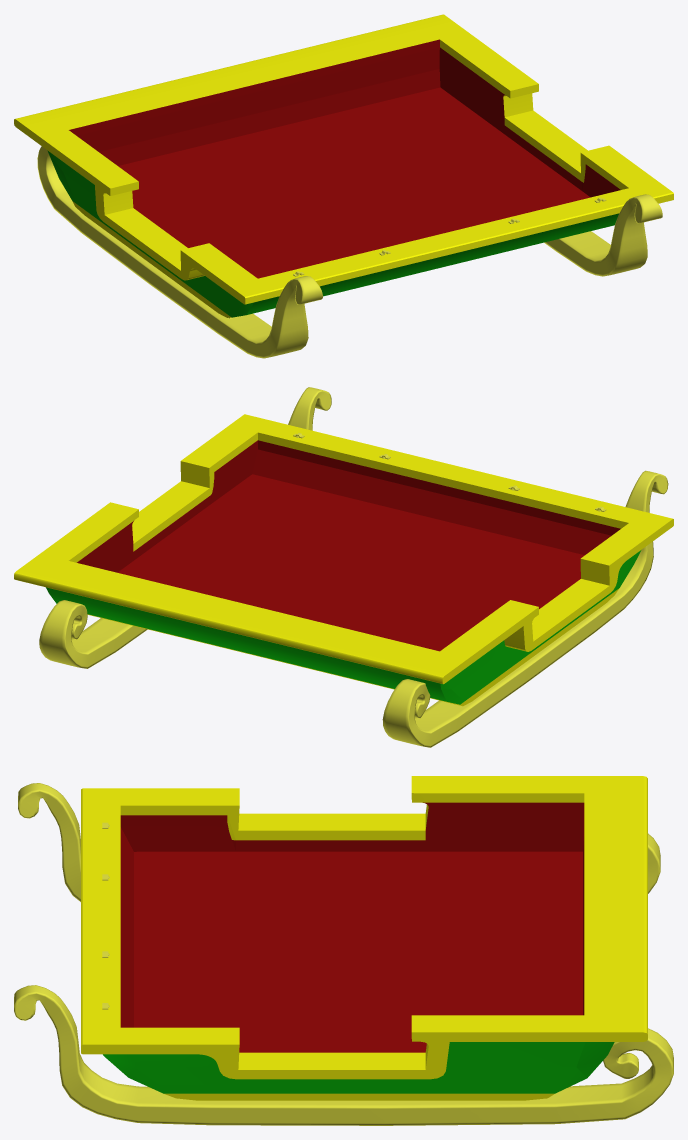
The model's file is sori.fbx.
3 renders of one model, top to bottom at view 1: azimuth 30°, elevation 25°; view 2: azimuth 150°, elevation 25°; view 3: azimuth 270°, elevation 25°, orthographic. The views are drawn at different scales.
Visible parts, largest first — view 1: pCube18; view 2: pCube18; view 3: pCube18.
Part boxes in pixels (box(x1,y1,x2,y2)): pCube18: box(14, 14, 673, 358); pCube18: box(14, 387, 673, 747); pCube18: box(14, 776, 673, 1125).
Size of the model in its own units: 7.68 by 1.79 by 8.36.
